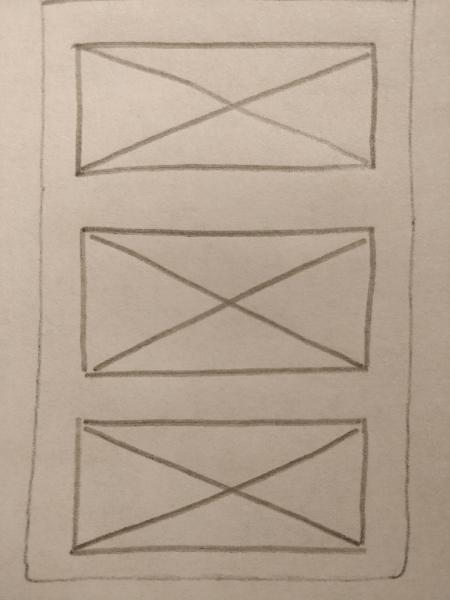image: (68, 220, 378, 383), (65, 403, 375, 566), (67, 31, 379, 184)
